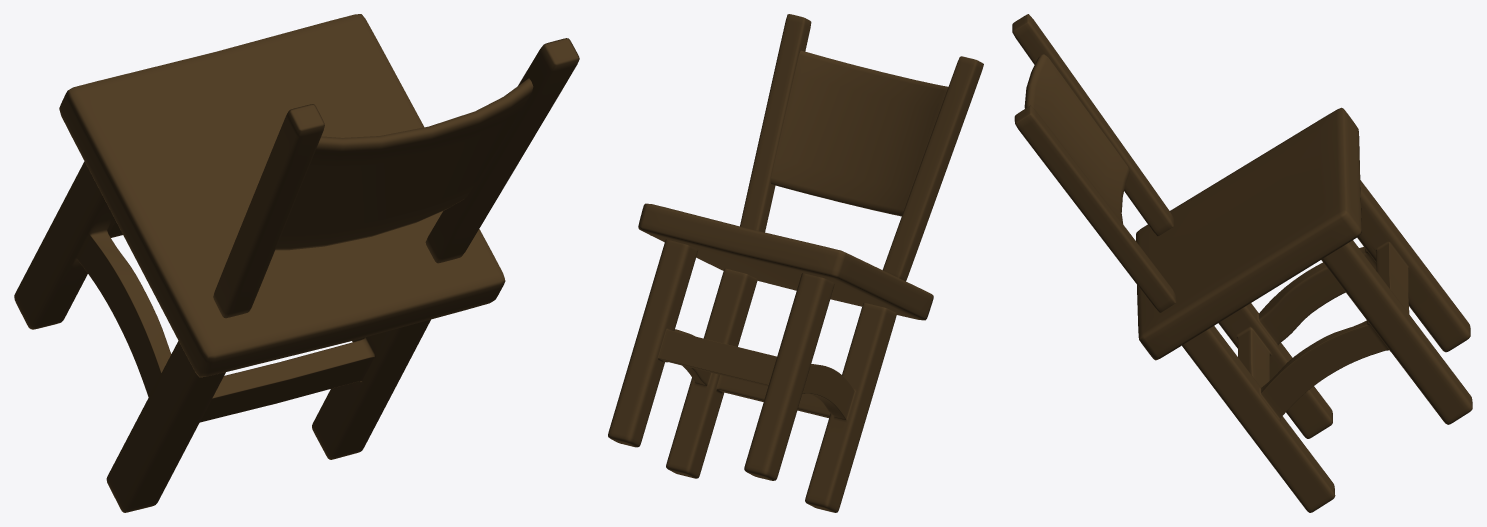
The model's file is chair.fbx.
3 views of the same model, side by side, from view 1: azimuth 30°, elevation 25°; view 2: azimuth 150°, elevation 25°; view 3: azimuth 270°, elevation 25° (orthographic). The views are drawn at different scales.
Parts seen in each view (by area): view 1: chair2; view 2: chair2; view 3: chair2.
Boxes of the visible parts, <box> form: chair2: <box>14,14,579,512</box>; chair2: <box>608,14,983,512</box>; chair2: <box>1012,14,1472,512</box>.
Bounding box in the file's own units: 0.6472 × 1.11 × 1.14.
